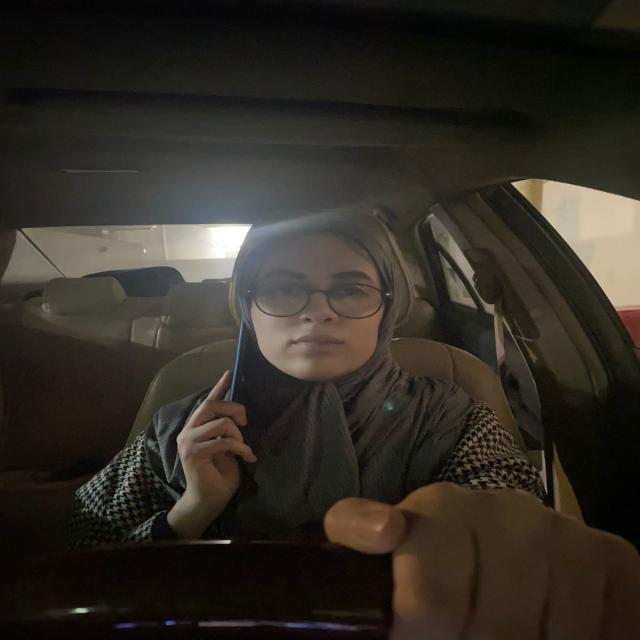phone: (226, 304, 252, 424)
